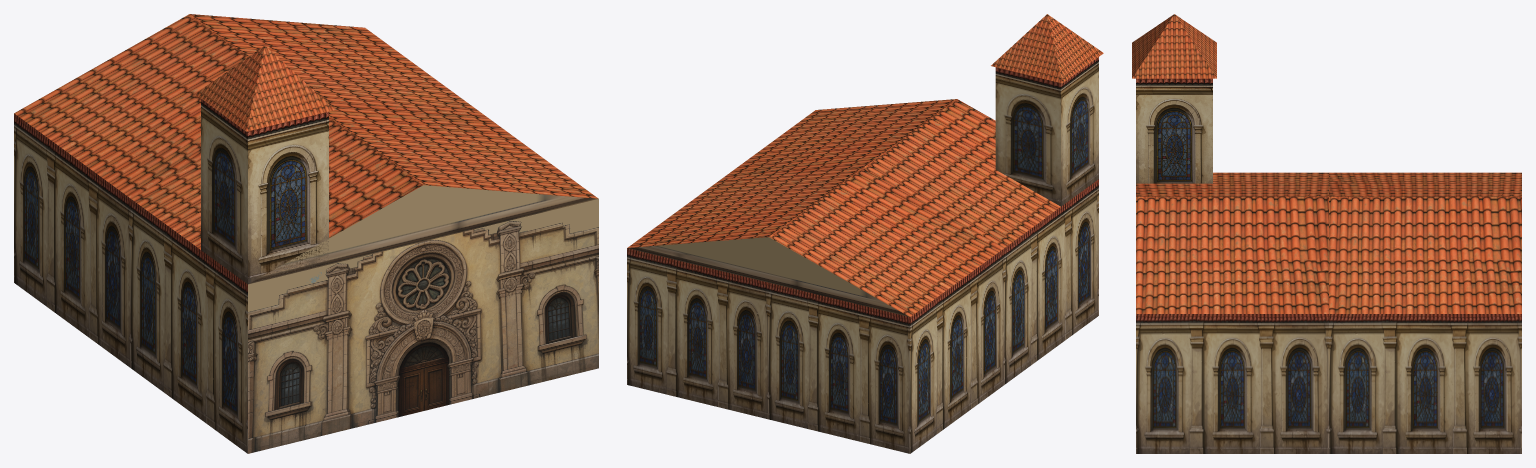
Rendered from LM_BlessedSacrament.fbx.
3 renders of one model, left to right at view 1: azimuth 30°, elevation 25°; view 2: azimuth 150°, elevation 25°; view 3: azimuth 270°, elevation 25°, orthographic. The views are drawn at different scales.
Parts seen in each view (by area): view 1: LM_BlessedSacrament; view 2: LM_BlessedSacrament; view 3: LM_BlessedSacrament.
Part boxes in pixels (<box>): LM_BlessedSacrament: <box>14,14,598,453</box>; LM_BlessedSacrament: <box>627,14,1103,453</box>; LM_BlessedSacrament: <box>1132,14,1521,453</box>.
Bounding box in the file's own units: 26.3 × 30.3 × 27.
Materials: 1 (1 with a texture image).
